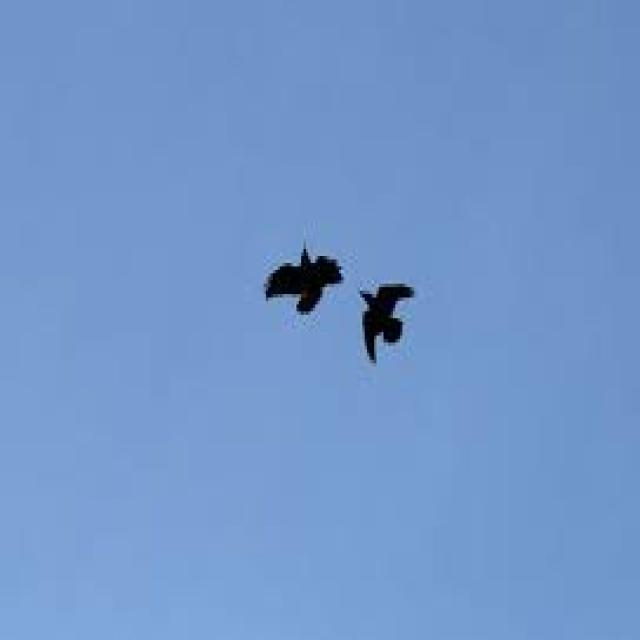bird: (255, 213, 353, 335), (356, 255, 422, 378)
